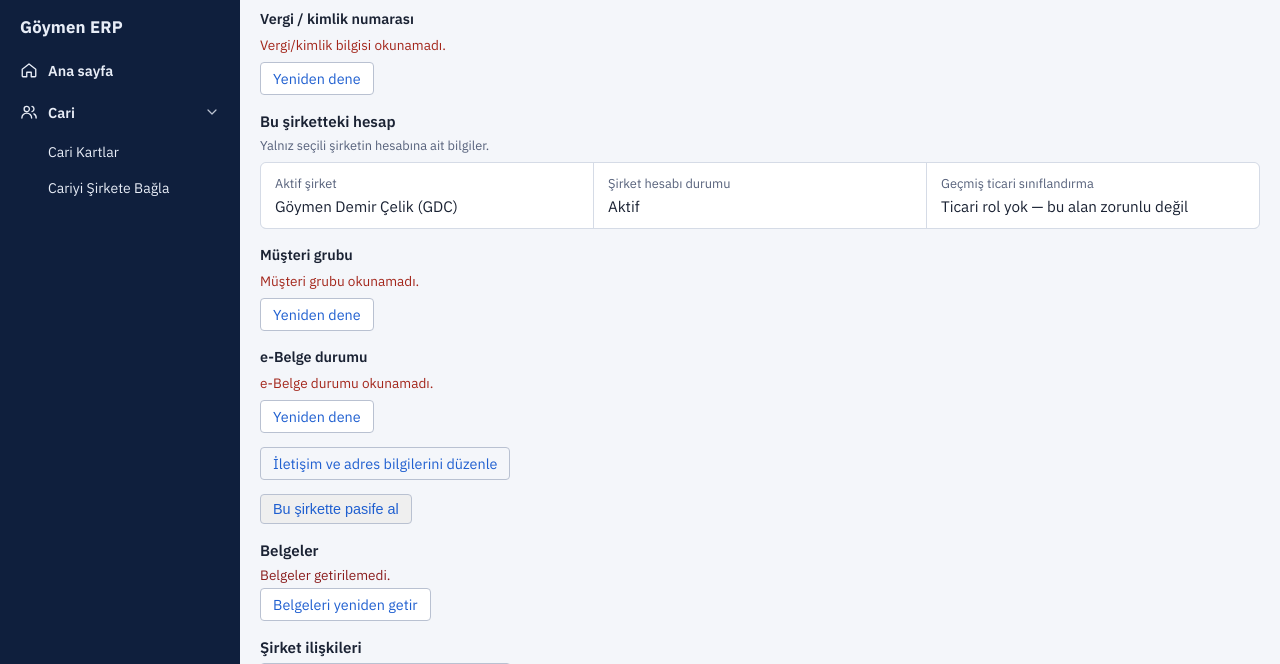
Test: P2-4 — the result is the fresh read’s, not the old intent’s › old deactivate replayed 204 + fresh GET active/v9: past result stated, current state announced, no list note, no second PUT
This screenshot has width=1280, height=664.
(page scrolled)
Click the button "Bu şirkette pasife al": (336, 509) [260,494,412,524]
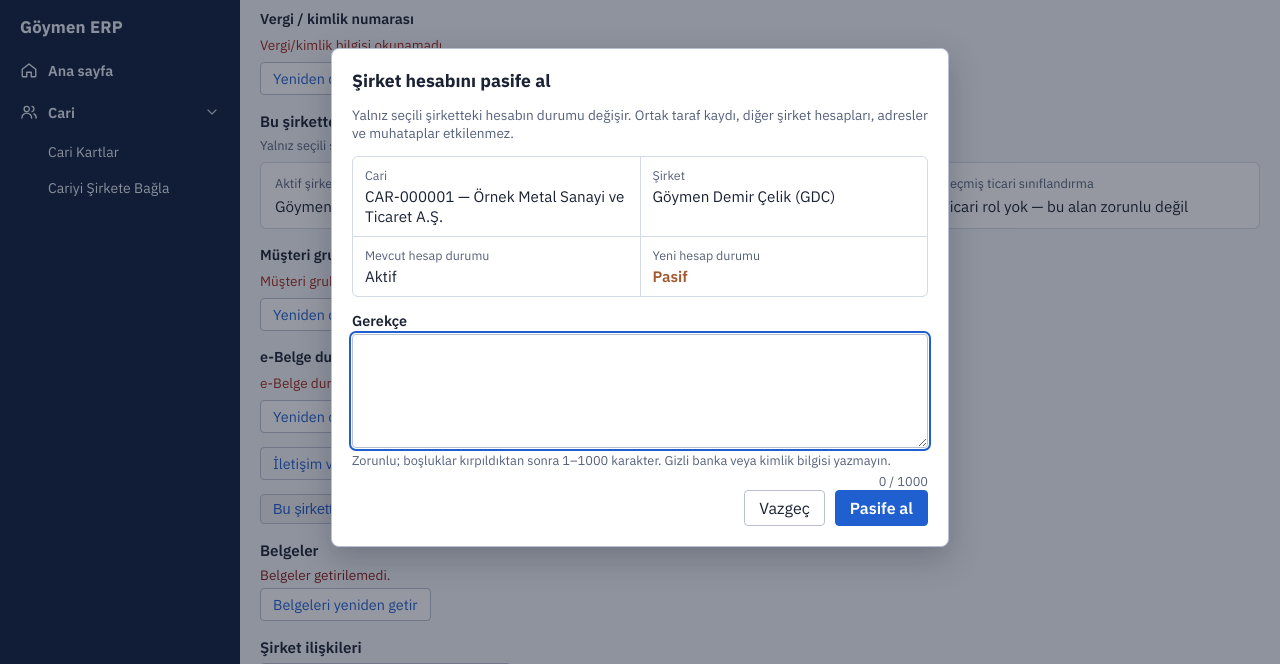
In the text box labelled "Gerekçe": (640, 391) [352,334,928,448], type "Bu şirket hesabındaki çalışmaya ara verildi."
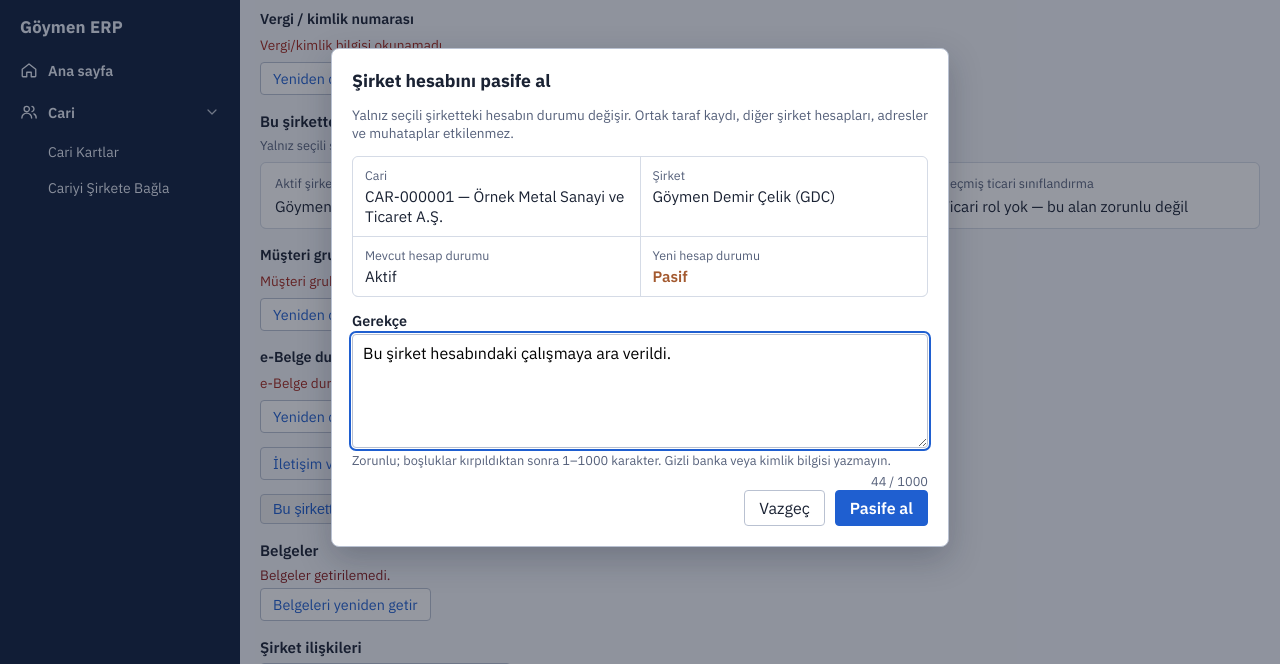
Click the button "Pasife al": (881, 508) [835,490,928,526]
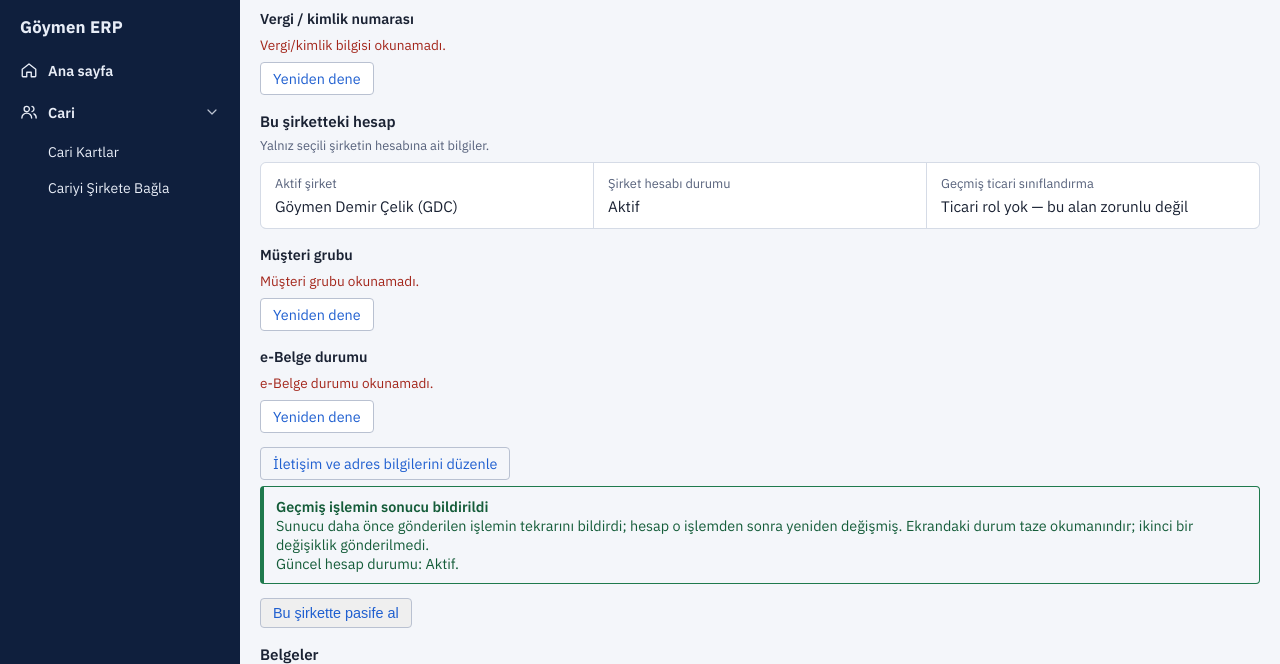
expect the text "Geçmiş işlemin sonucu bildirildi" is shown: met, box [276,497,488,516]
